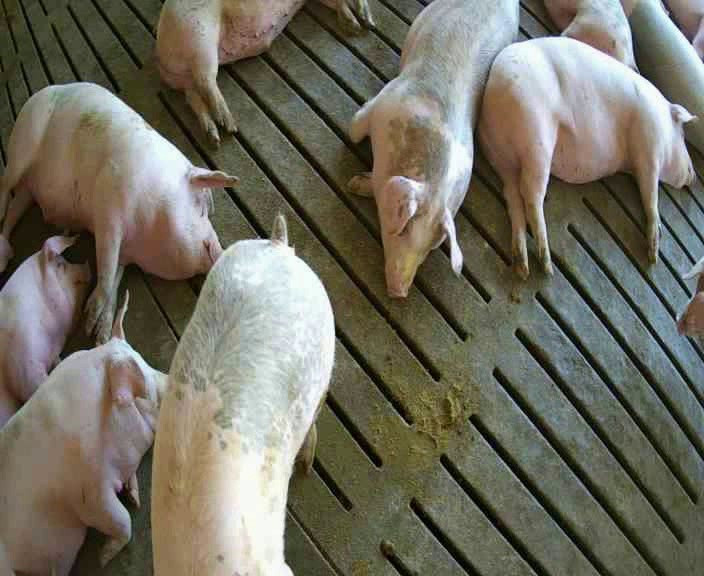pig: (152, 215, 334, 574), (0, 82, 237, 341), (479, 38, 694, 278), (348, 2, 517, 296), (0, 290, 166, 575), (0, 236, 90, 427), (621, 1, 703, 153), (544, 1, 636, 70)
